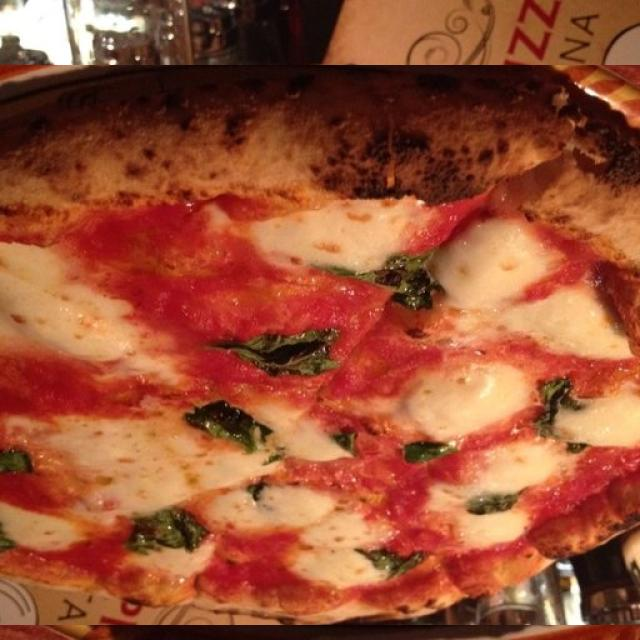basil: (196, 380, 326, 437), (354, 223, 460, 291), (300, 312, 432, 360), (50, 237, 109, 314), (429, 134, 514, 184), (212, 111, 284, 144), (114, 172, 178, 204), (180, 226, 238, 252), (605, 214, 640, 245), (280, 232, 312, 262), (371, 186, 394, 216), (624, 134, 640, 172)
pizza: (0, 65, 640, 625)
